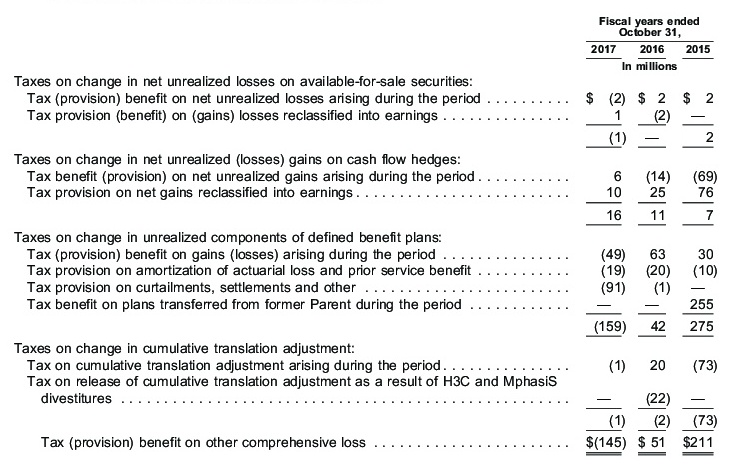table: (0, 0, 740, 474)
